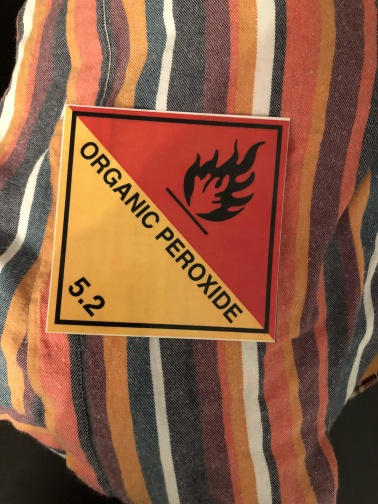OrganicPeroxide: (45, 104, 289, 341)
